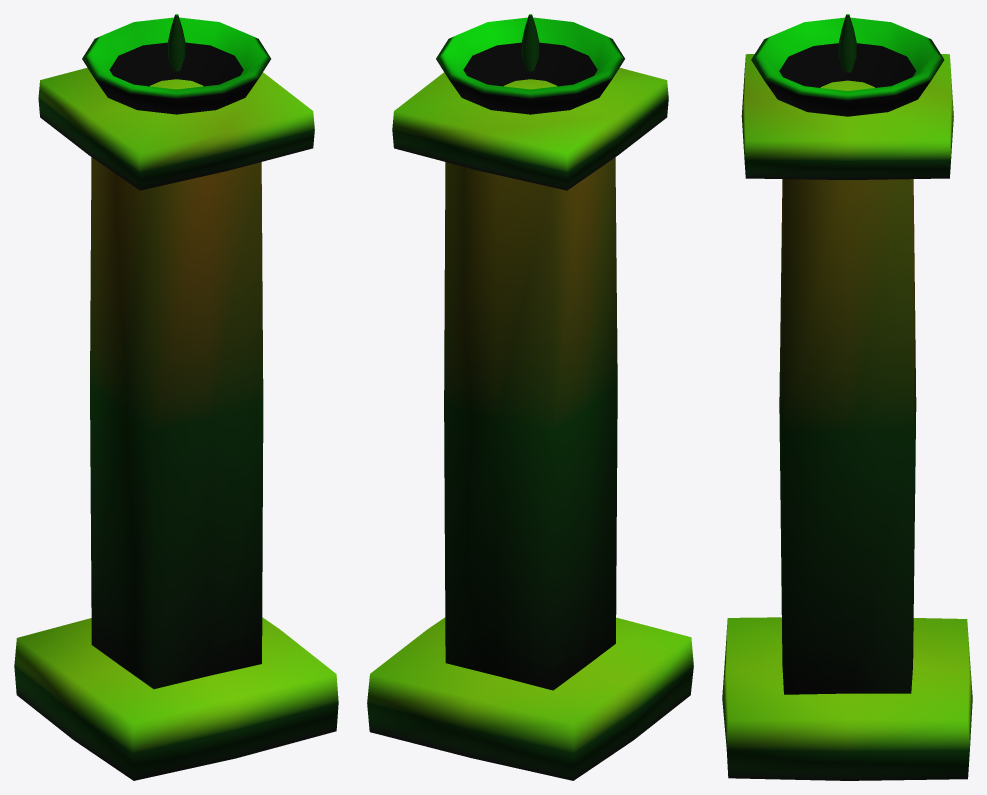
Rendered from lamp_pillar.glb.
3 views of the same model, side by side, from view 1: azimuth 30°, elevation 25°; view 2: azimuth 150°, elevation 25°; view 3: azimuth 270°, elevation 25° (orthographic). The views are drawn at different scales.
Visible parts, largest first — view 1: lamp_pillar; view 2: lamp_pillar; view 3: lamp_pillar.
Boxes of the visible parts, x1,y1,x2,y2 form: lamp_pillar: [14, 14, 338, 780]; lamp_pillar: [367, 14, 693, 780]; lamp_pillar: [722, 14, 972, 780].
Size of what is drawn, in the model's own units: 0.4021 by 1.27 by 0.4016.
